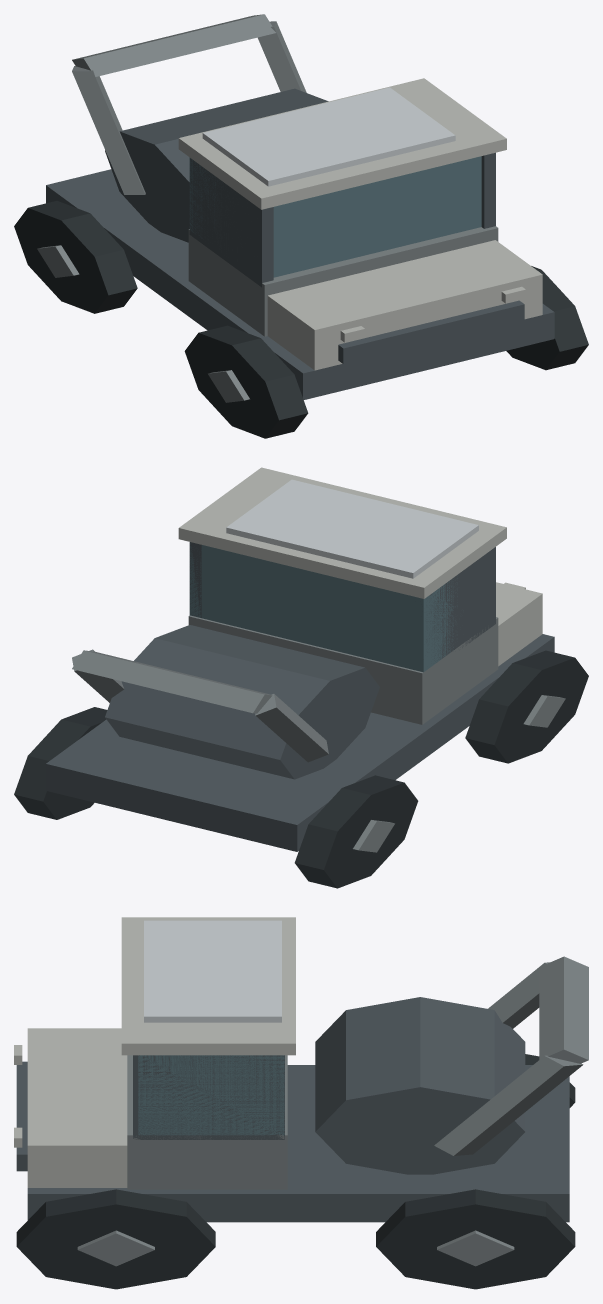
File: skidder.glb
The picture shows the model from 3 angles, top to bottom: view 1: azimuth 30°, elevation 25°; view 2: azimuth 150°, elevation 25°; view 3: azimuth 270°, elevation 25°; orthographic projection. The views are drawn at different scales.
Visible parts, largest first — view 1: skidder; view 2: skidder; view 3: skidder.
Part boxes in pixels (x1=…): skidder: x1=14, y1=14, x2=588, y2=438; skidder: x1=14, y1=467, x2=588, y2=888; skidder: x1=14, y1=917, x2=588, y2=1289.
Bounding box in the file's own units: 1.96 × 1.3 × 2.88.
